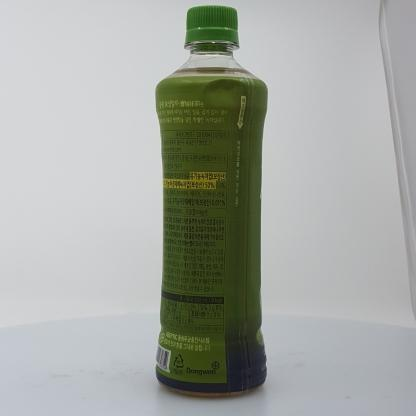------500ML: (155, 5, 268, 397)
